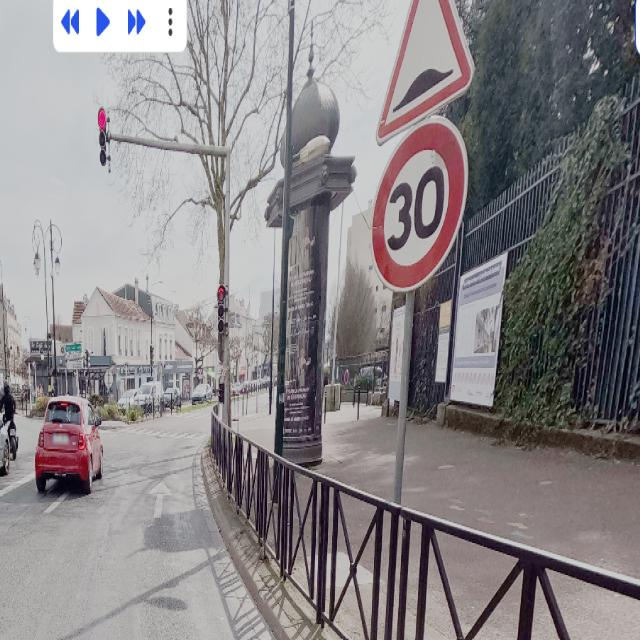speed_30: (369, 112, 471, 300)
